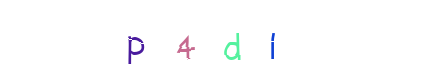4: (142, 0, 222, 80)
D: (175, 0, 255, 80)
L: (193, 0, 273, 80)
P: (135, 0, 215, 80)
